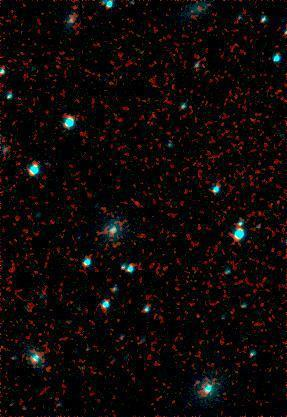star: (182, 371, 212, 401)
